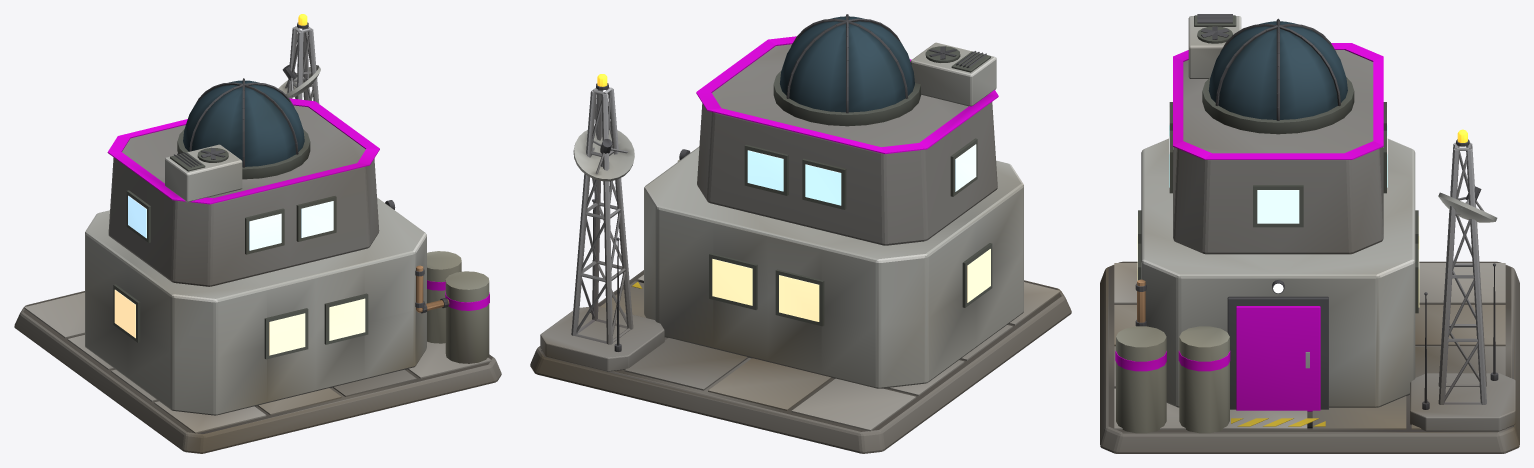
Rendered from tech_center.glb.
3 views of the same model, side by side, from view 1: azimuth 30°, elevation 25°; view 2: azimuth 150°, elevation 25°; view 3: azimuth 270°, elevation 25° (orthographic). The views are drawn at different scales.
Parts seen in each view (by area): view 1: Body; view 2: Body; view 3: Body.
Boxes of the visible parts, box(x1,y1,x2,y2) form: Body: box(14, 14, 501, 453); Body: box(530, 14, 1071, 453); Body: box(1100, 14, 1519, 453).
Size of the model in its own units: 3.98 by 3.4 by 3.98.
1 material, 1 textured.
